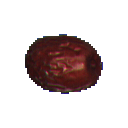gd: (15, 20, 114, 108)
